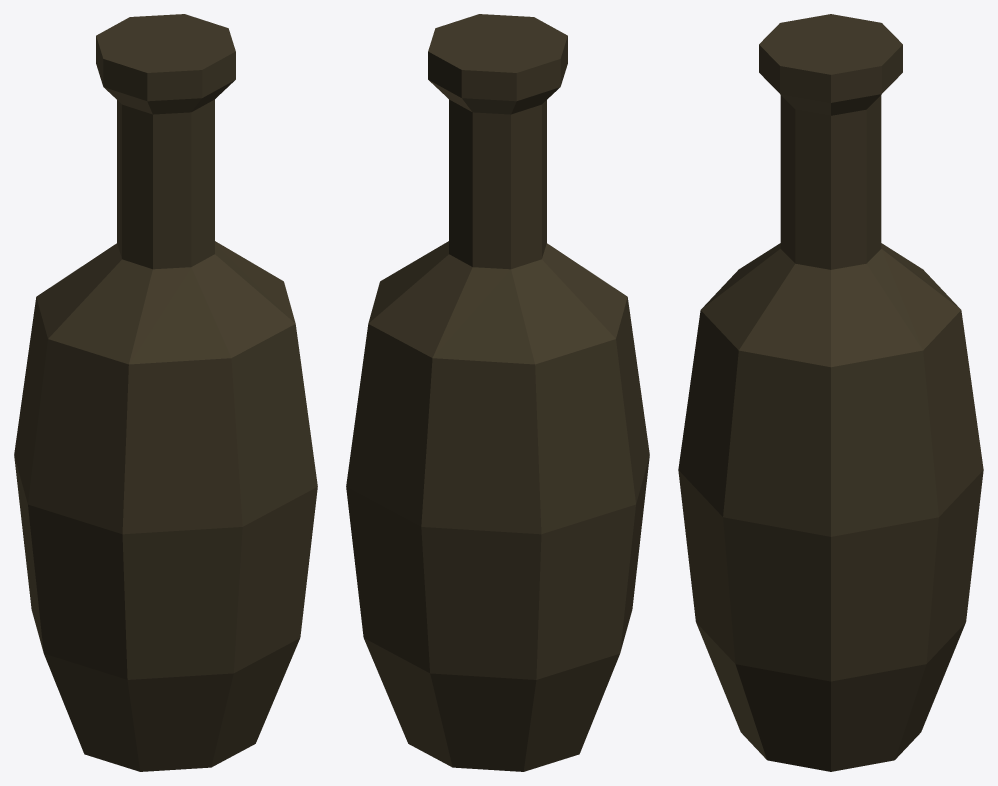
The model's file is ITFO_BOOZE_01.OBJ.
3 renders of one model, left to right at view 1: azimuth 30°, elevation 25°; view 2: azimuth 150°, elevation 25°; view 3: azimuth 270°, elevation 25°, orthographic.
Visible parts, largest first — view 1: ITFO_BOOZE_01; view 2: ITFO_BOOZE_01; view 3: ITFO_BOOZE_01.
Boxes of the visible parts, left/top/right/bottom form: ITFO_BOOZE_01: left=14, top=14, right=317, bottom=771; ITFO_BOOZE_01: left=346, top=14, right=649, bottom=771; ITFO_BOOZE_01: left=678, top=14, right=983, bottom=771.
Bounding box in the file's own units: 0.1256 × 0.3002 × 0.1208.
